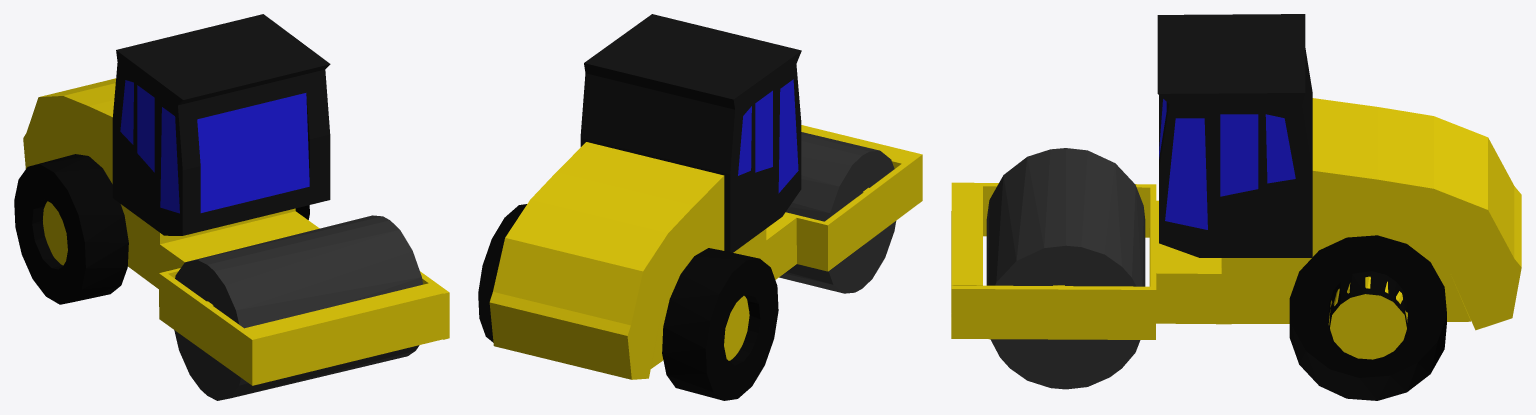
File: Steamroller.glb
3 renders of one model, left to right at view 1: azimuth 30°, elevation 25°; view 2: azimuth 150°, elevation 25°; view 3: azimuth 270°, elevation 25°, orthographic. The views are drawn at different scales.
Parts seen in each view (by area): view 1: Body, Roller, Rear Wheels; view 2: Body, Rear Wheels, Roller; view 3: Body, Roller, Rear Wheels.
Part boxes in pixels (box(x1,y1,x2,y2)): Body: box(23, 14, 449, 385); Roller: box(174, 215, 422, 400); Rear Wheels: box(14, 154, 309, 304); Body: box(489, 14, 922, 379); Rear Wheels: box(478, 204, 778, 400); Roller: box(779, 132, 896, 293); Body: box(951, 14, 1521, 339); Roller: box(986, 148, 1145, 389); Rear Wheels: box(1289, 235, 1446, 400).
Size of the model in its own units: 2.78 by 3.1 by 5.59.
